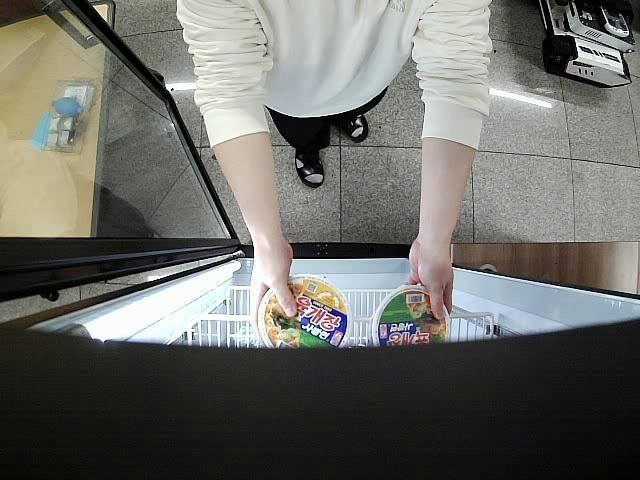09_yukGaeJang: (258, 275, 354, 349), (372, 286, 451, 342)
